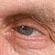eye: (19, 26, 32, 35)
